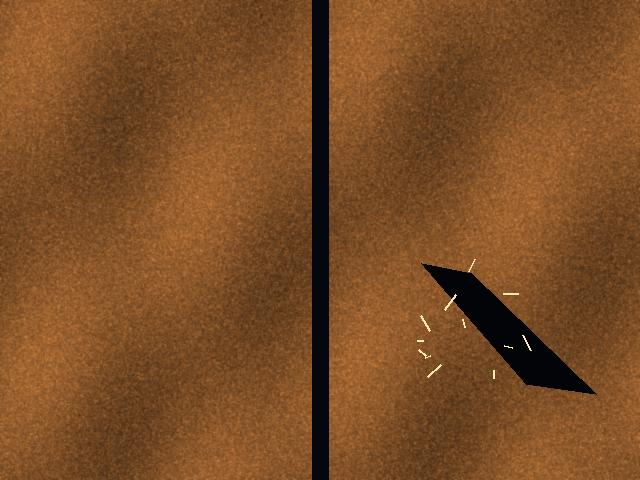Ghost Net: (411, 263, 536, 384)
